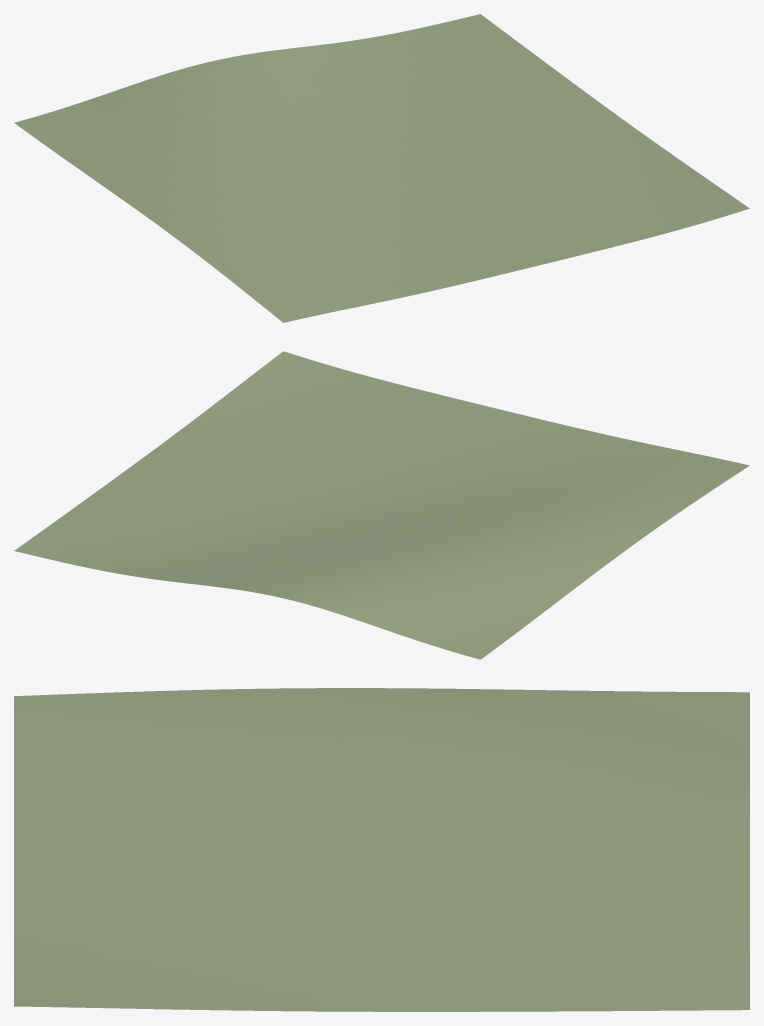
Rendered from desert-4-10.glb.
The picture shows the model from 3 angles, top to bottom: view 1: azimuth 30°, elevation 25°; view 2: azimuth 150°, elevation 25°; view 3: azimuth 270°, elevation 25°; orthographic projection. The views are drawn at different scales.
Visible parts, largest first — view 1: desert-4-10; view 2: desert-4-10; view 3: desert-4-10.
Boxes of the visible parts, x1,y1,x2,y2 form: desert-4-10: (14, 14, 749, 322); desert-4-10: (14, 351, 749, 659); desert-4-10: (14, 688, 749, 1011).
Bounding box in the file's own units: 512 × 22.2 × 512.
